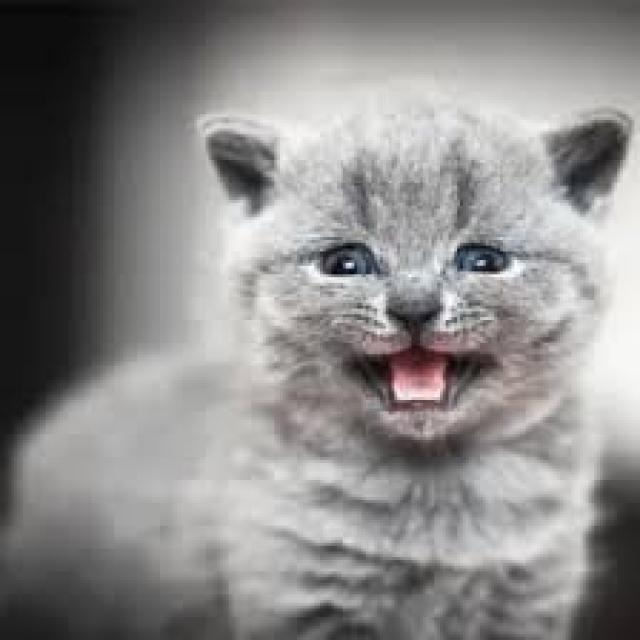Cat: (0, 91, 637, 640)
